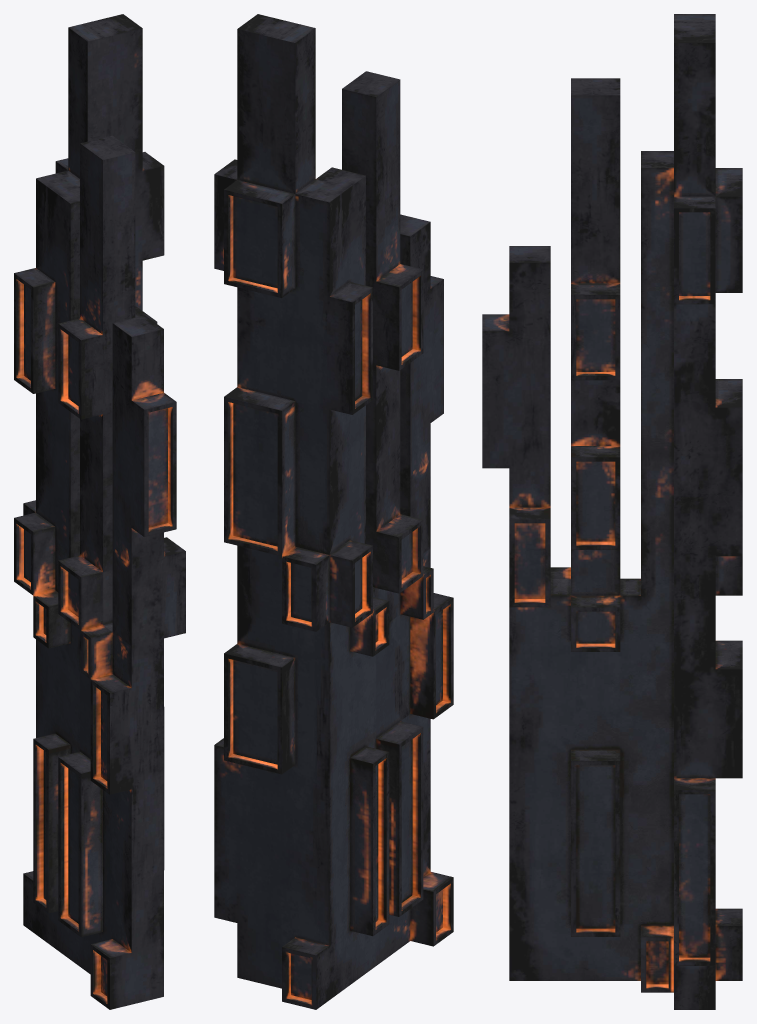
3 renders of one model, left to right at view 1: azimuth 30°, elevation 25°; view 2: azimuth 150°, elevation 25°; view 3: azimuth 270°, elevation 25°, orthographic. The views are drawn at different scales.
Parts seen in each view (by area): view 1: SB_08; view 2: SB_08; view 3: SB_08.
Boxes of the visible parts, x1,y1,x2,y2 form: SB_08: [14, 14, 185, 1009]; SB_08: [214, 14, 453, 1009]; SB_08: [482, 14, 742, 1009].
Bounding box in the file's own units: 944 × 6187 × 1511.
1 material, 1 textured.
